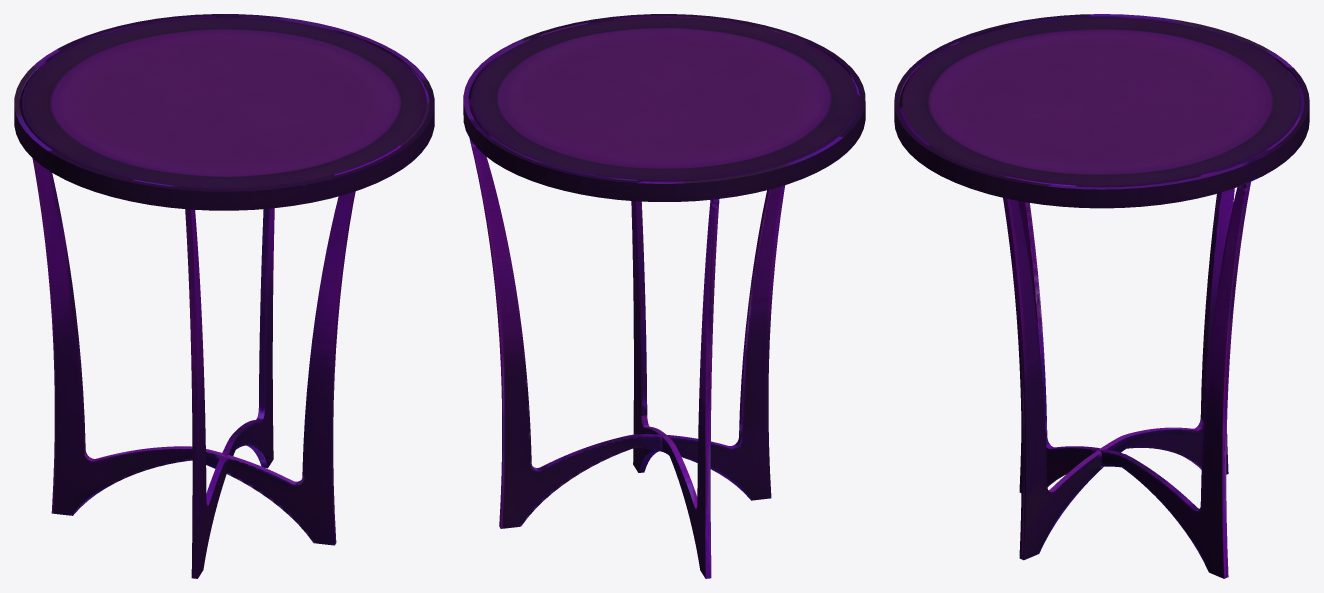
The model's file is edited_mesh.glb.
The picture shows the model from 3 angles, left to right: view 1: azimuth 30°, elevation 25°; view 2: azimuth 150°, elevation 25°; view 3: azimuth 270°, elevation 25°; orthographic projection. The views are drawn at different scales.
Parts seen in each view (by area): view 1: solid_001_wire; view 2: solid_001_wire; view 3: solid_001_wire.
Part boxes in pixels (box(x1,y1,x2,y2)): solid_001_wire: box(14, 14, 434, 578); solid_001_wire: box(463, 14, 865, 578); solid_001_wire: box(894, 14, 1309, 578).
Size of the model in its own units: 1.23 by 1.38 by 1.23.
1 material, 1 textured.
